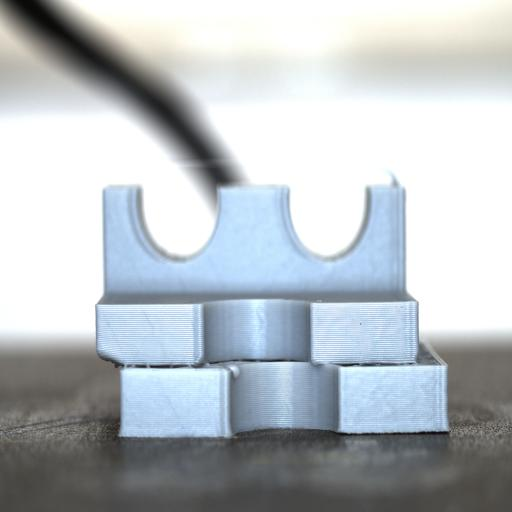layer_shift: (95, 351, 451, 377)
